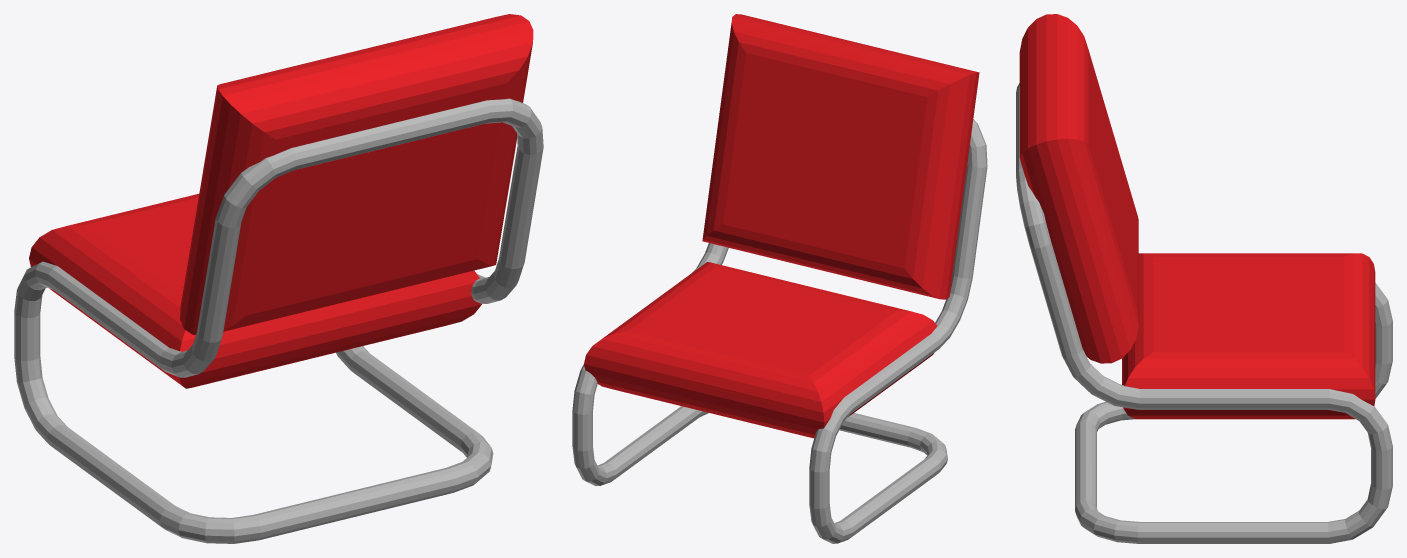
The model's file is Chair.glb.
The picture shows the model from 3 angles, left to right: view 1: azimuth 30°, elevation 25°; view 2: azimuth 150°, elevation 25°; view 3: azimuth 270°, elevation 25°; orthographic projection. The views are drawn at different scales.
Parts seen in each view (by area): view 1: Chair; view 2: Chair; view 3: Chair.
Part boxes in pixels (box(x1,y1,x2,y2)): Chair: box(14, 14, 543, 543); Chair: box(572, 14, 987, 543); Chair: box(1016, 14, 1392, 543).
Bounding box in the file's own units: 2.15 × 3.01 × 2.55.
